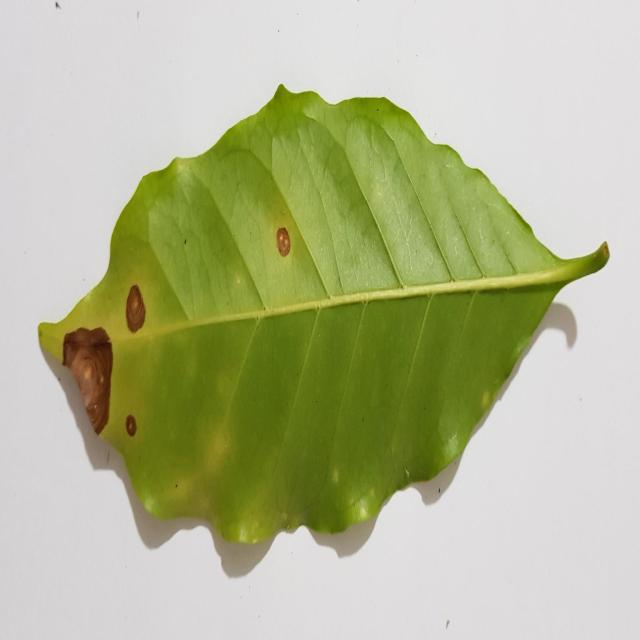Enfermedad-Mancha-de-hierro: (38, 87, 611, 544)
